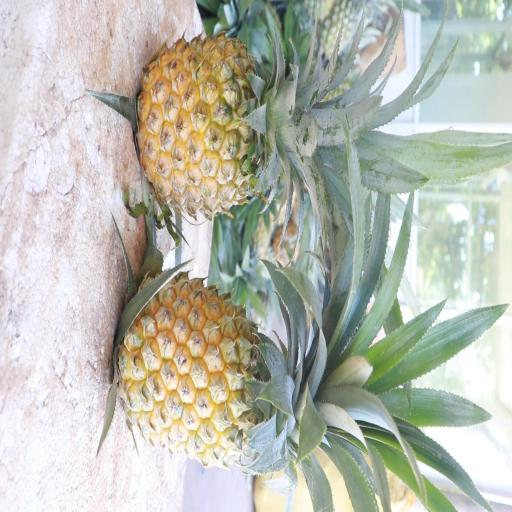Pineapple - v8 v1: (114, 268, 372, 475), (134, 29, 349, 225)
